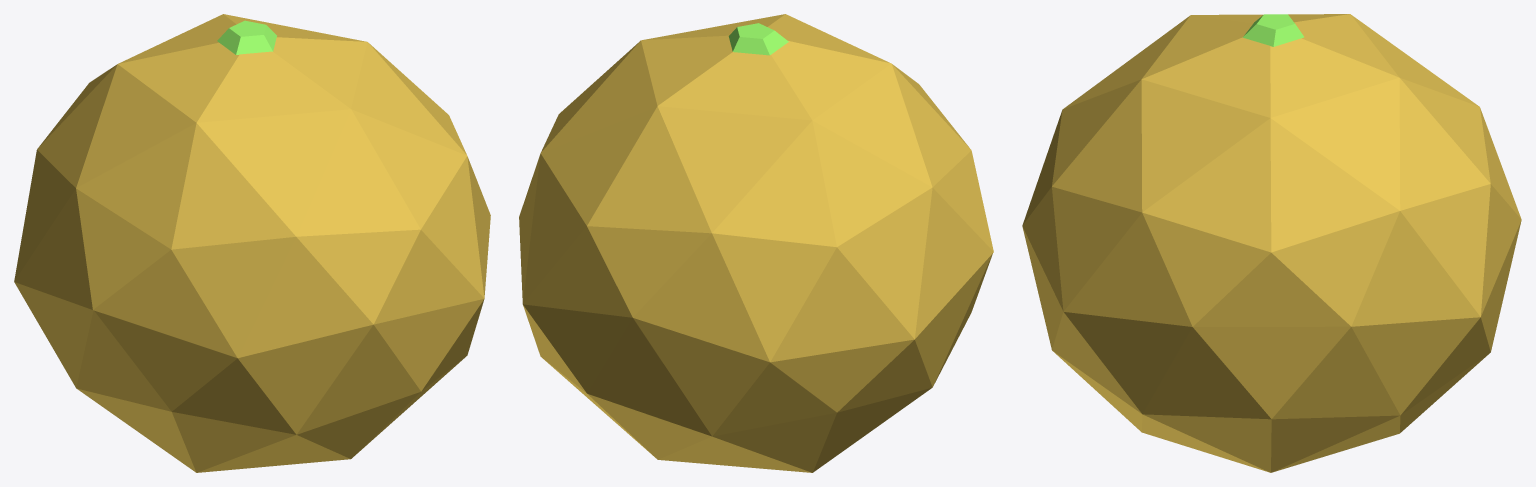
File: grapefruit.fbx
3 views of the same model, side by side, from view 1: azimuth 30°, elevation 25°; view 2: azimuth 150°, elevation 25°; view 3: azimuth 270°, elevation 25° (orthographic).
Visible parts, largest first — view 1: grapefruit; view 2: grapefruit; view 3: grapefruit.
Boxes of the visible parts, x1,y1,x2,y2 form: grapefruit: (14, 14, 490, 472); grapefruit: (519, 14, 993, 472); grapefruit: (1022, 14, 1521, 472).
Size of the model in its own units: 159 by 162 by 171.
